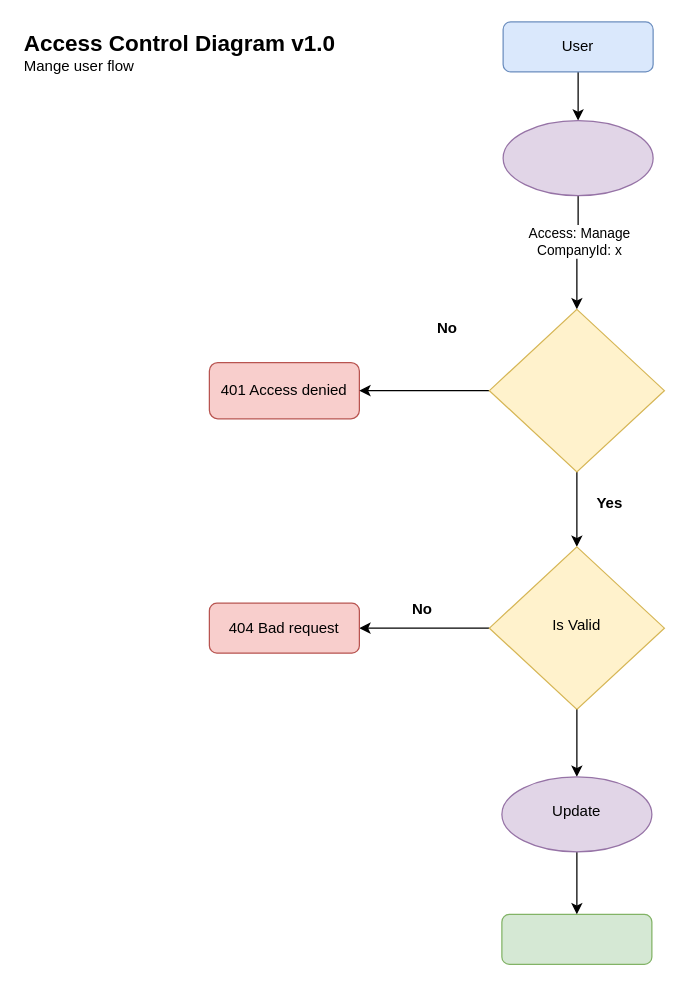
The diagram is 686 pixels wide and 986 high, and some of its shapes have lost their labels. Here are the shapes that lost their labels. From the top down, the box of each, then its label:
(502, 119, 653, 196): Add user to company
(488, 308, 664, 472): Has access for company
(501, 913, 652, 964): 200 Ok
